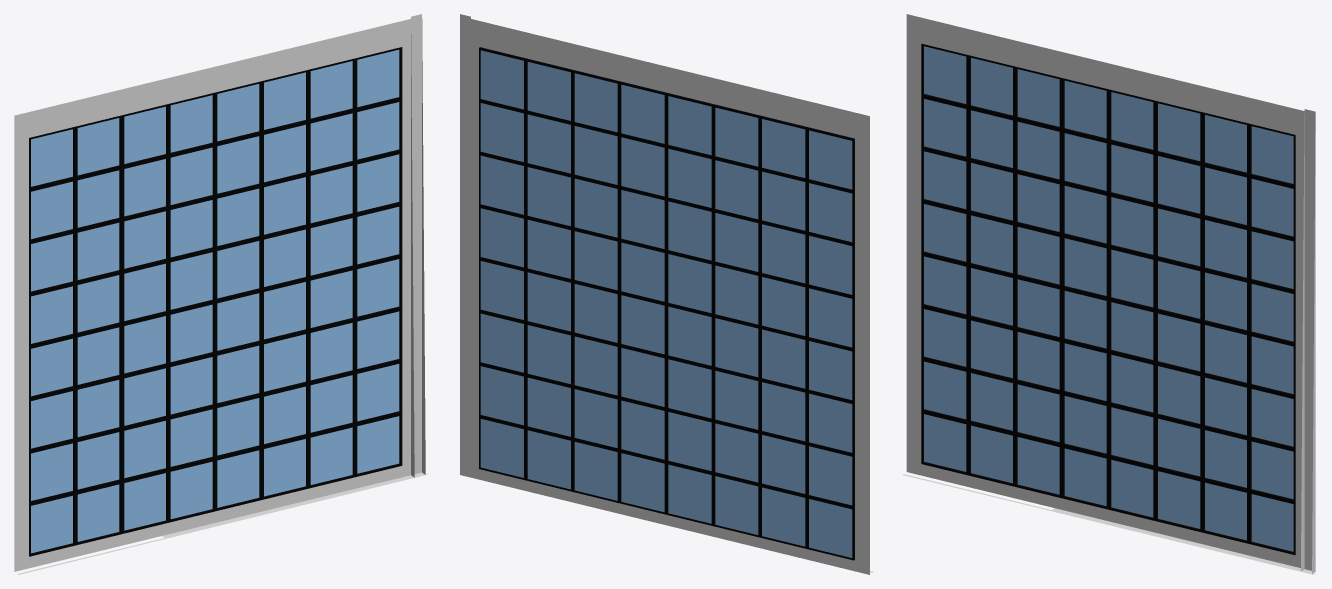
File: window.fbx
3 renders of one model, left to right at view 1: azimuth 30°, elevation 25°; view 2: azimuth 150°, elevation 25°; view 3: azimuth 330°, elevation 25°, orthographic.
Parts seen in each view (by area): view 1: G-__555564; view 2: G-__555564; view 3: G-__555564.
Part boxes in pixels (x1,y1,x2,y2): G-__555564: [14, 14, 428, 574]; G-__555564: [459, 14, 873, 574]; G-__555564: [903, 14, 1316, 574].
Size of the model in its own units: 574 by 610 by 12.48.
